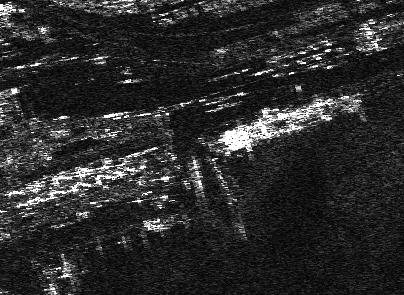ship: (217, 91, 363, 157)
